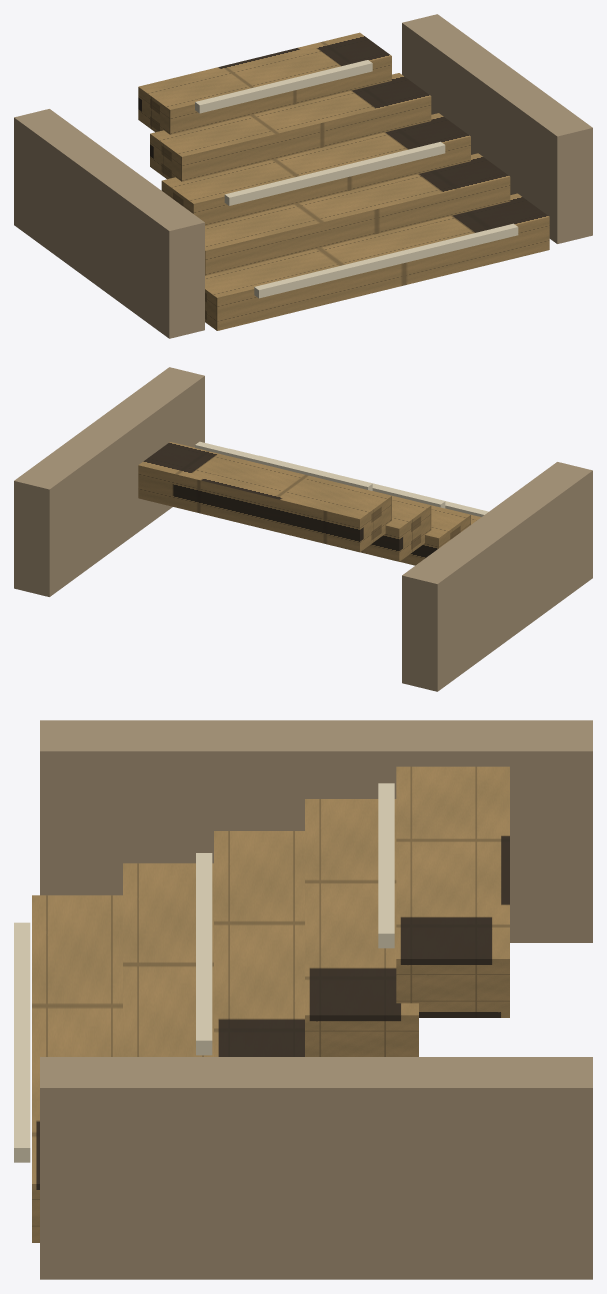
File: city-module-stairs-lod0.glb
3 views of the same model, one above another, from view 1: azimuth 30°, elevation 25°; view 2: azimuth 150°, elevation 25°; view 3: azimuth 270°, elevation 25° (orthographic). The views are drawn at different scales.
Visible parts, largest first — view 1: module_stairs_left_cheek, module_stairs_right_cheek, module_stairs_step_1, module_stairs_step_2, module_stairs_step_4, module_stairs_step_3, module_stairs_step_5, module_stairs_front_chipped_edge_1, module_stairs_front_chipped_edge_3, module_stairs_front_chipped_edge_5; view 2: module_stairs_left_cheek, module_stairs_right_cheek, module_stairs_step_5, module_stairs_step_4, module_stairs_step_3, module_stairs_front_chipped_edge_5, module_stairs_front_chipped_edge_3, module_stairs_front_chipped_edge_1; view 3: module_stairs_right_cheek, module_stairs_left_cheek, module_stairs_step_5, module_stairs_step_4, module_stairs_step_3, module_stairs_step_1, module_stairs_step_2, module_stairs_front_chipped_edge_1, module_stairs_front_chipped_edge_3, module_stairs_front_chipped_edge_5.
Part boxes in pixels (left/top/right/bottom): module_stairs_left_cheek: left=14, top=109, right=204, bottom=338; module_stairs_right_cheek: left=402, top=14, right=592, bottom=243; module_stairs_step_1: left=205, top=193, right=549, bottom=330; module_stairs_step_2: left=205, top=153, right=510, bottom=275; module_stairs_step_4: left=150, top=73, right=431, bottom=181; module_stairs_step_3: left=161, top=113, right=470, bottom=225; module_stairs_step_5: left=138, top=32, right=391, bottom=134; module_stairs_front_chipped_edge_1: left=254, top=223, right=518, bottom=298; module_stairs_front_chipped_edge_3: left=224, top=141, right=445, bottom=205; module_stairs_front_chipped_edge_5: left=195, top=60, right=372, bottom=113; module_stairs_left_cheek: left=402, top=462, right=592, bottom=691; module_stairs_right_cheek: left=14, top=367, right=204, bottom=596; module_stairs_step_5: left=138, top=442, right=391, bottom=552; module_stairs_step_4: left=184, top=445, right=431, bottom=561; module_stairs_step_3: left=373, top=491, right=470, bottom=565; module_stairs_front_chipped_edge_5: left=195, top=441, right=372, bottom=490; module_stairs_front_chipped_edge_3: left=229, top=448, right=445, bottom=508; module_stairs_front_chipped_edge_1: left=259, top=455, right=488, bottom=516; module_stairs_right_cheek: left=40, top=1057, right=592, bottom=1279; module_stairs_left_cheek: left=40, top=720, right=592, bottom=942; module_stairs_step_5: left=396, top=766, right=509, bottom=1017; module_stairs_step_4: left=305, top=799, right=418, bottom=1056; module_stairs_step_3: left=214, top=831, right=304, bottom=1056; module_stairs_step_1: left=32, top=895, right=122, bottom=1242; module_stairs_step_2: left=123, top=863, right=213, bottom=1056; module_stairs_front_chipped_edge_1: left=14, top=922, right=30, bottom=1162; module_stairs_front_chipped_edge_3: left=196, top=853, right=212, bottom=1055; module_stairs_front_chipped_edge_5: left=378, top=783, right=394, bottom=948.
Size of the model in its own units: 0.535 by 0.163 by 0.356.
3 materials, 1 textured.
